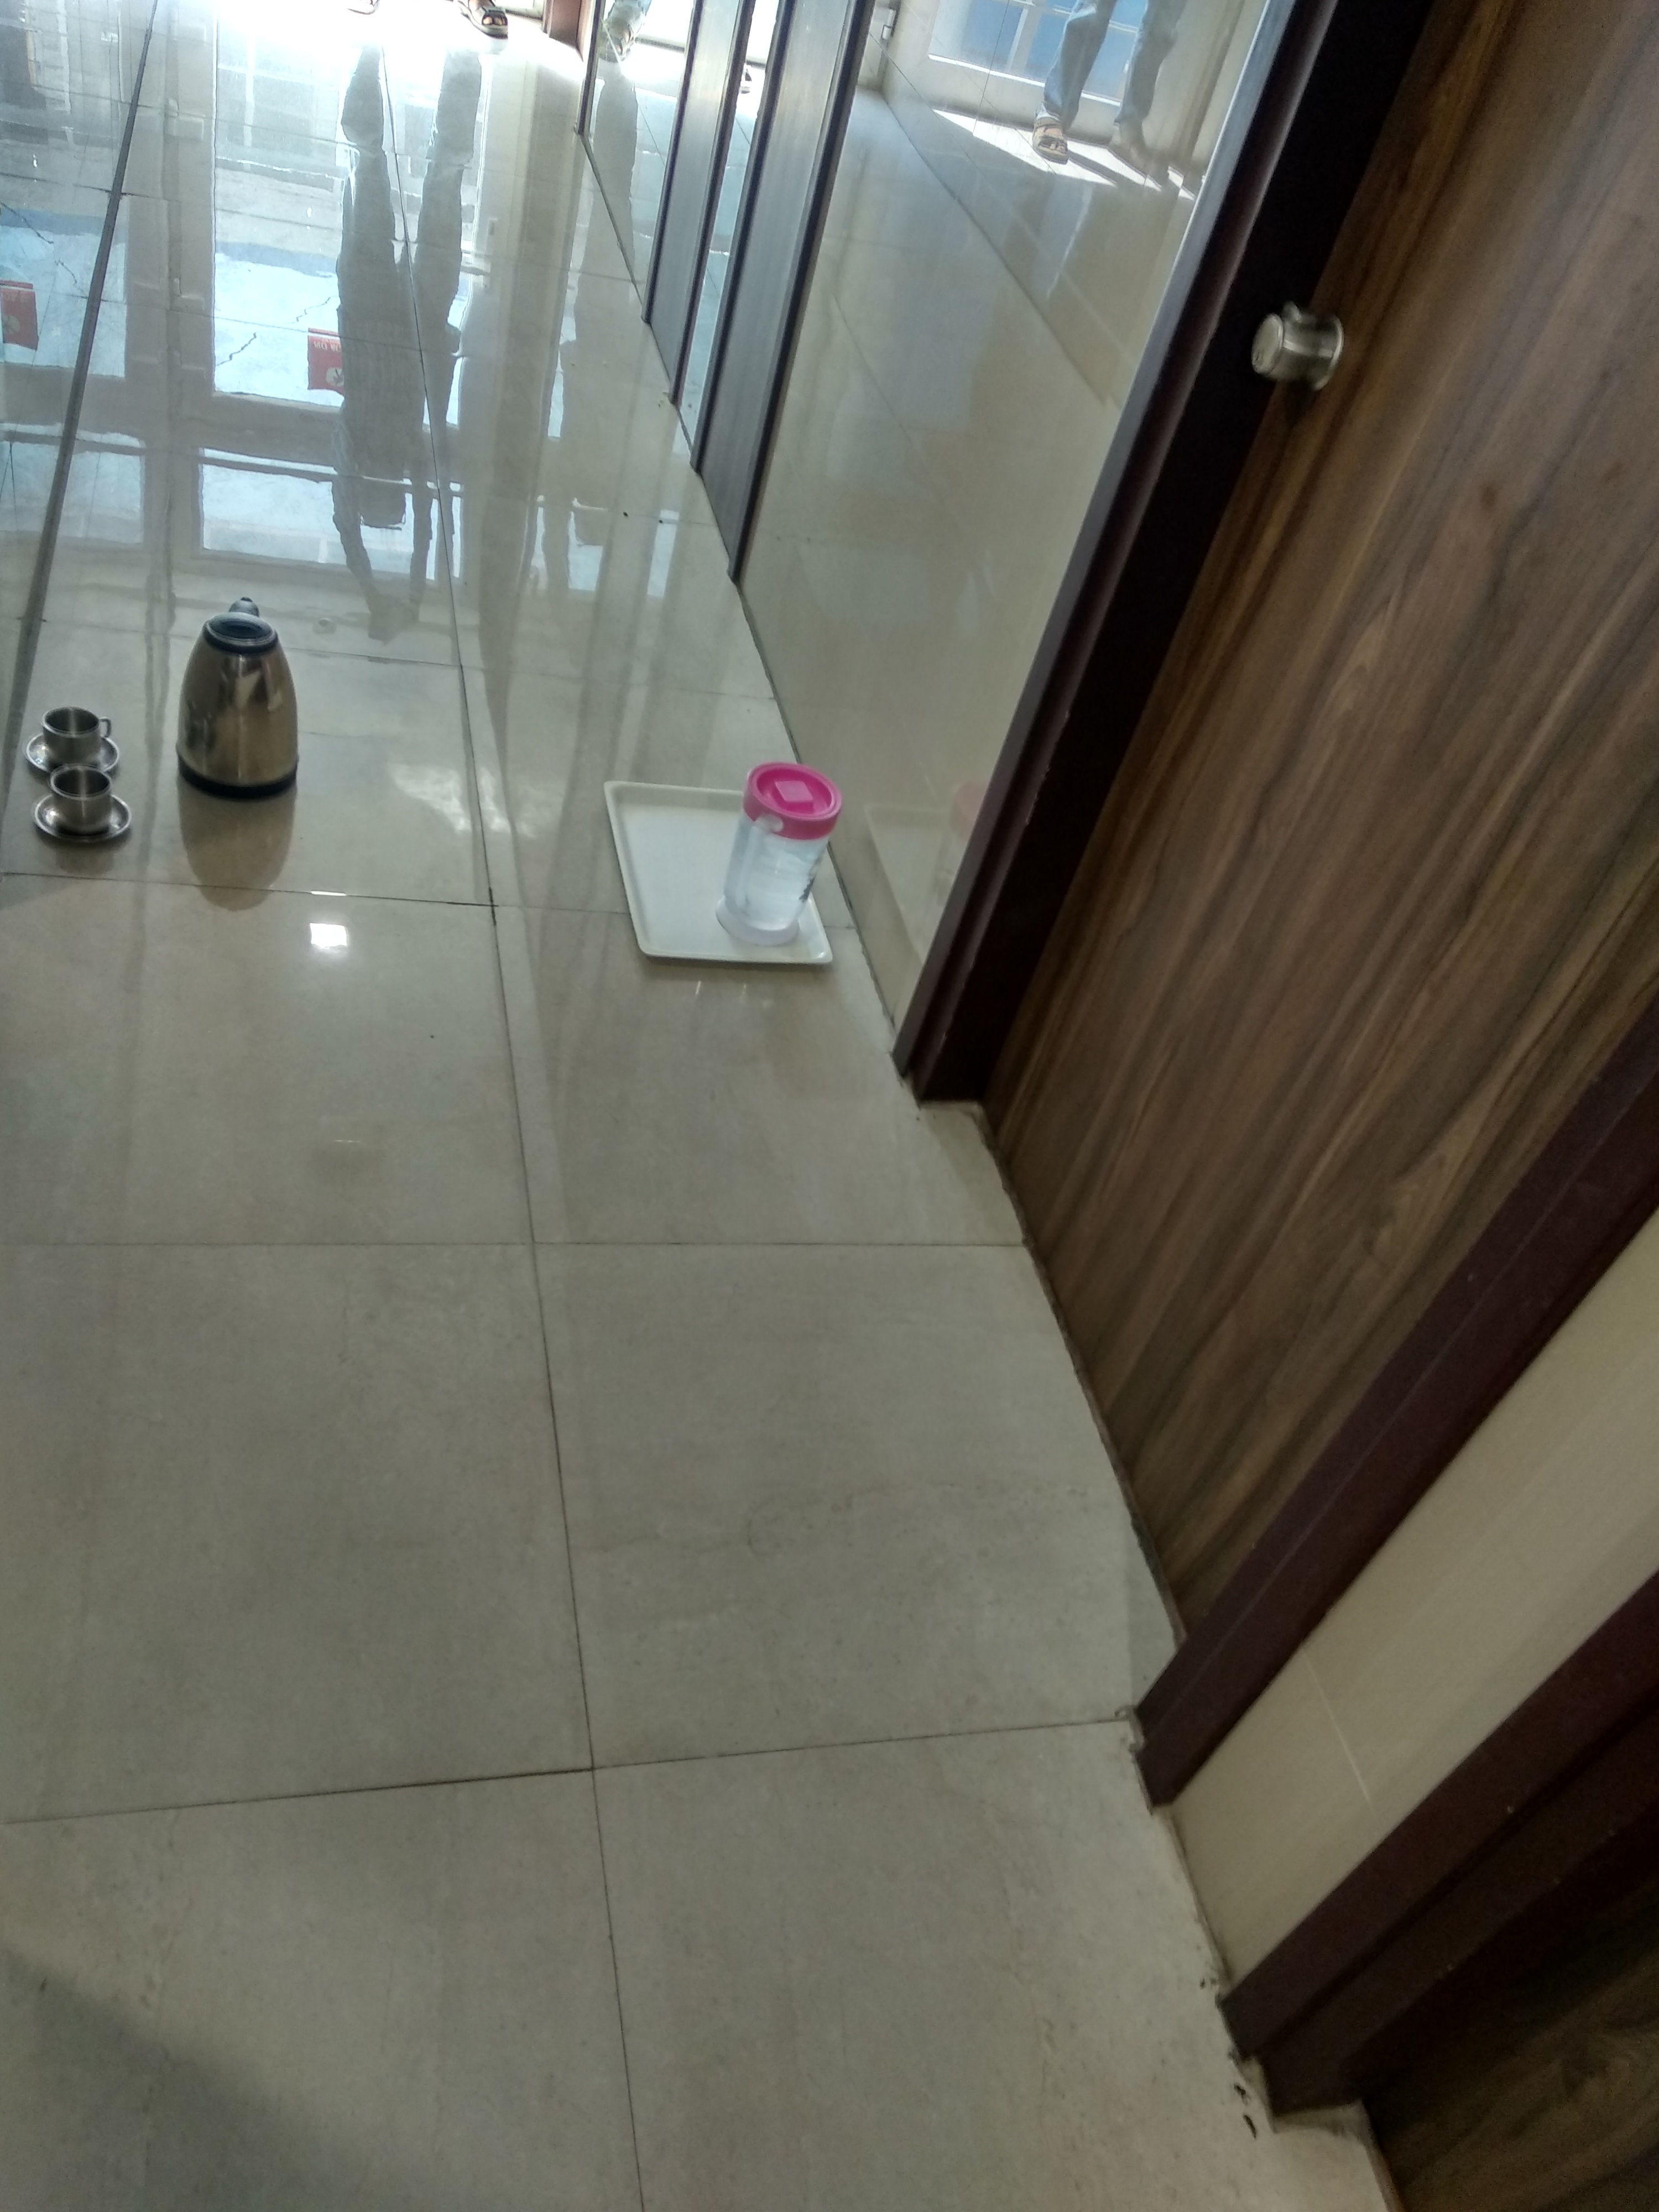CUP: (24, 700, 131, 777), (33, 773, 132, 843)
JUG: (148, 589, 326, 813), (708, 758, 845, 949)
